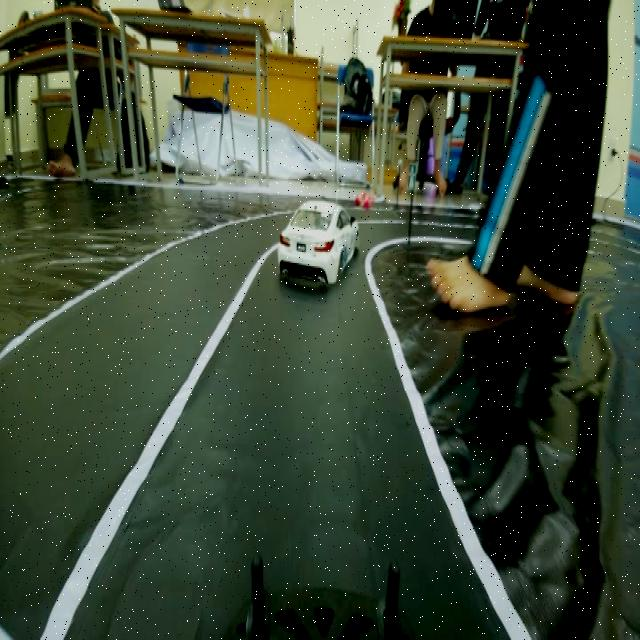car: (273, 198, 366, 292)
